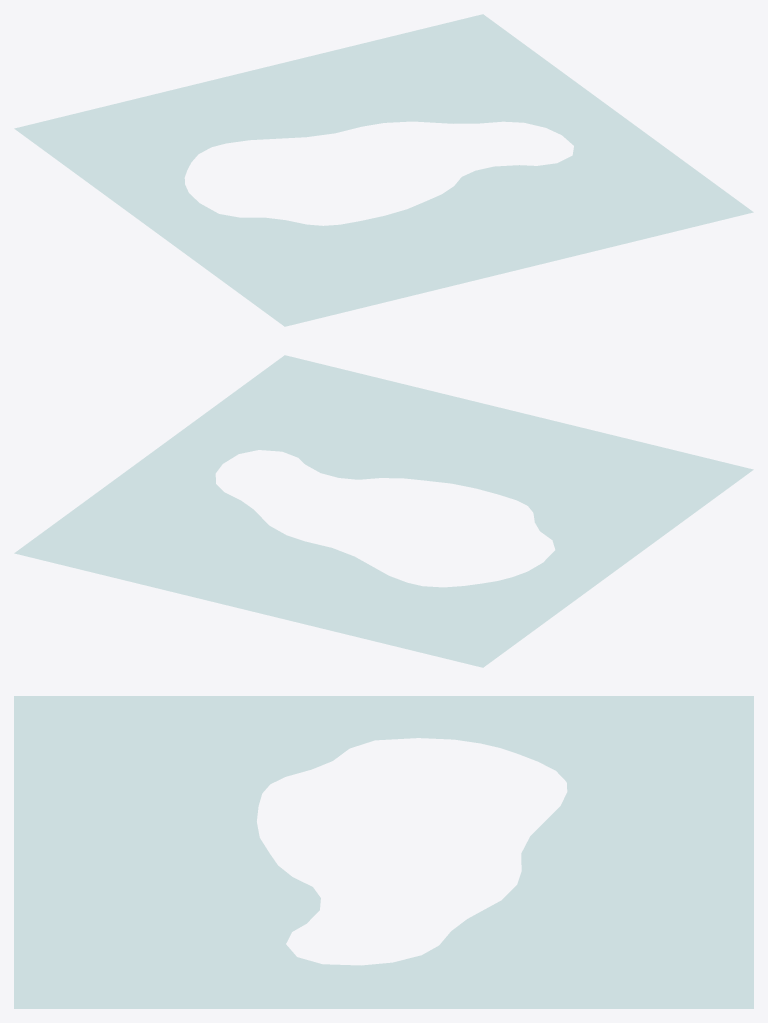
File: sea_foam_003.fbx
3 views of the same model, one above another, from view 1: azimuth 30°, elevation 25°; view 2: azimuth 150°, elevation 25°; view 3: azimuth 270°, elevation 25° (orthographic). The views are drawn at different scales.
Visible parts, largest first — view 1: sea_foam_003; view 2: sea_foam_003; view 3: sea_foam_003.
Boxes of the visible parts, x1,y1,x2,y2 form: sea_foam_003: (14, 14, 753, 326); sea_foam_003: (14, 355, 753, 667); sea_foam_003: (14, 696, 753, 1008).
Size of the model in its own units: 1297 by 1297 by 1.43e-20.
